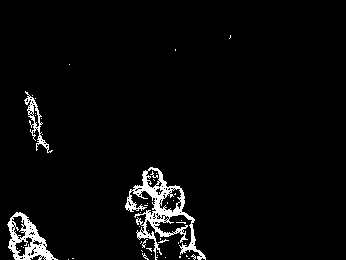person: (144, 184, 207, 260), (20, 88, 54, 153)
